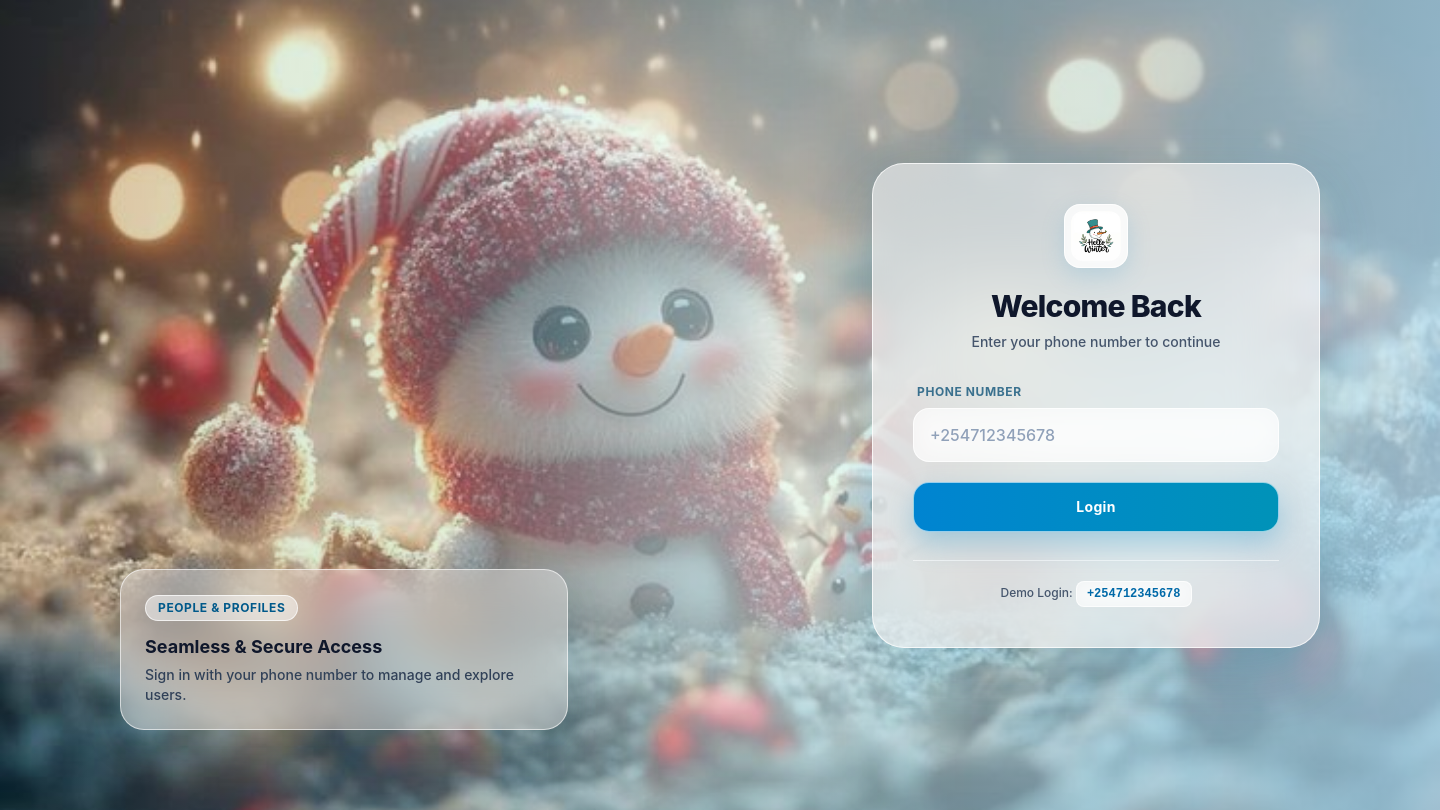
Login page › shows live prefix error as soon as another country code is typed
The image size is (1440, 810).
Type "+92" into the field labelled "Phone Number".
click(1096, 434); type("+92")  # box x1=913 y1=408 x2=1279 y2=462
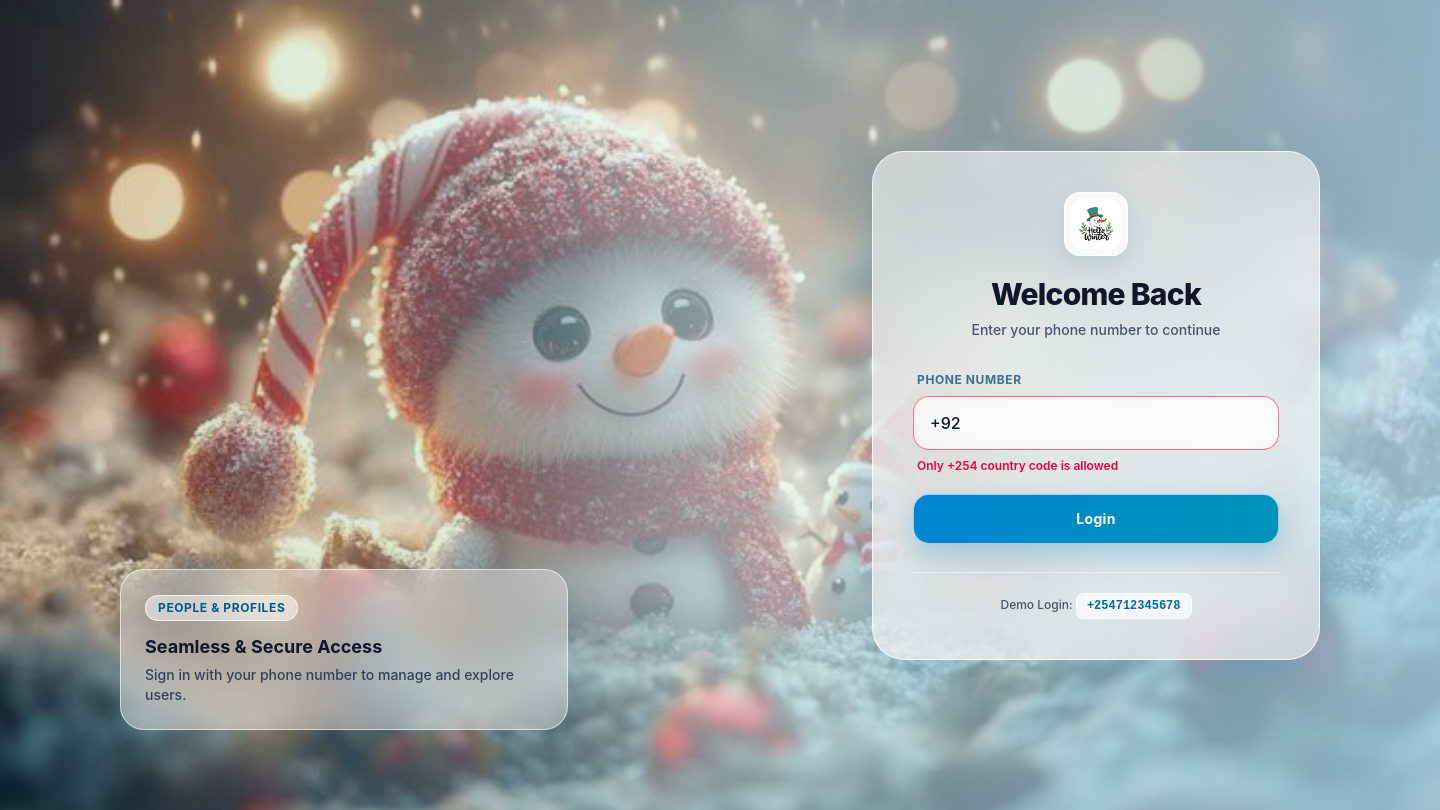
Check: the text "Only +254 country code is allowed" is shown, box x1=917 y1=458 x2=1118 y2=472
